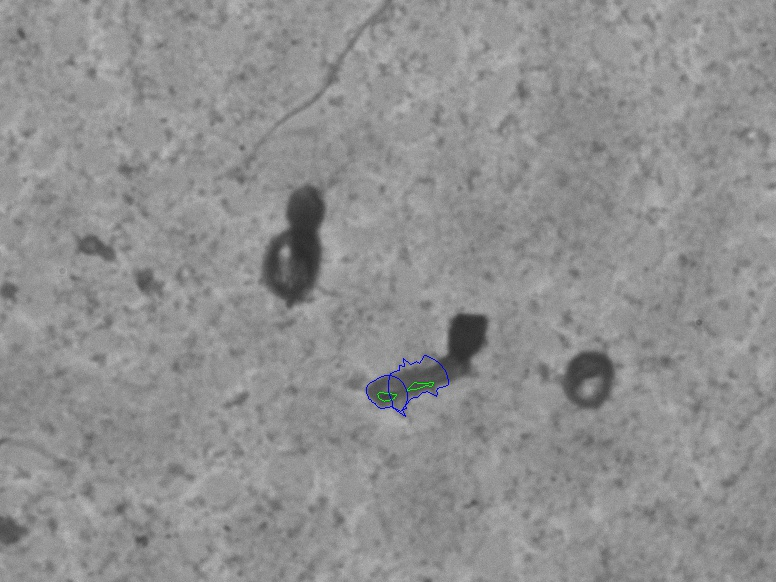Abnormal: (246, 171, 344, 316)
